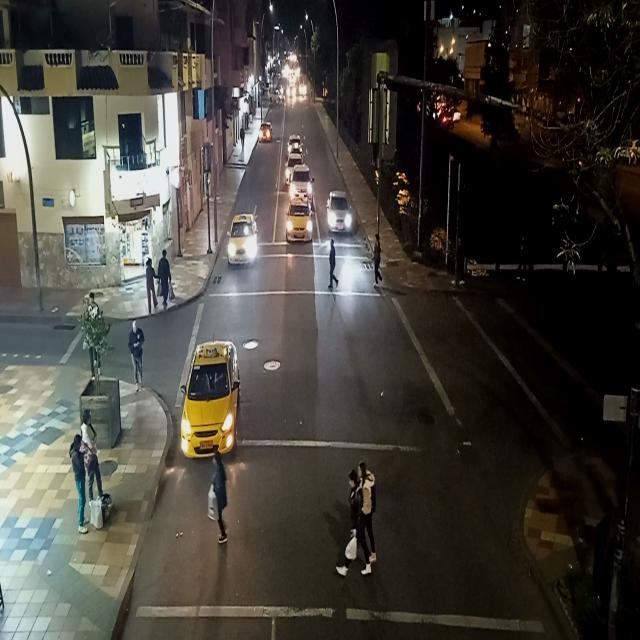CMT: (290, 166, 310, 200)
SED: (181, 341, 241, 454), (230, 217, 258, 266), (287, 203, 311, 241)
